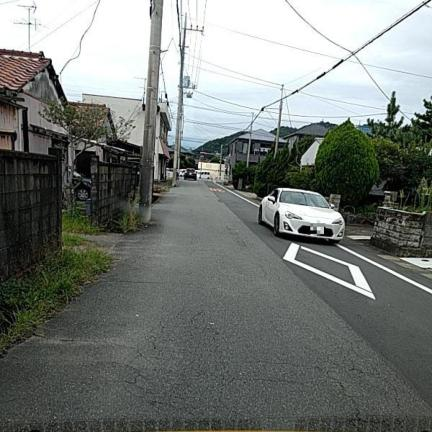Road: (0, 181, 431, 431)
